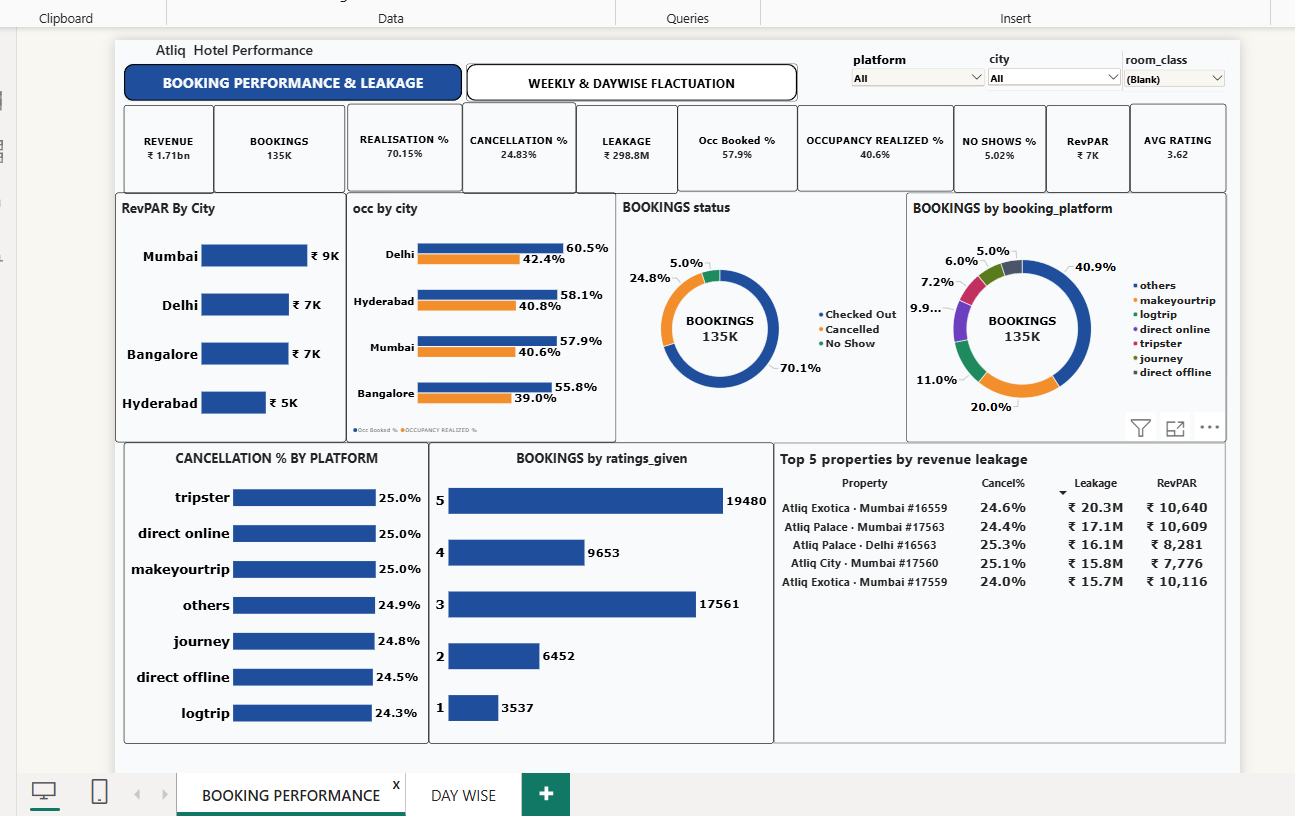

The page's visual inventory and layout, read from the dashboard file:
{"tool":"powerbi","page":{"name":"BOOKING PERFORMANCE","canvas":[3000,2000],"ordinal":0},"visuals":[{"type":"clusteredBarChart","title":"RevPAR By City","fields":{"Category":["dim_hotels.city"],"Y":["fact_bookings.RevPAR"]},"box":[0,406.7,616.7,666.7],"z":0},{"type":"clusteredBarChart","title":"occ by city","fields":{"Category":["dim_hotels.city"],"Y":["fact_bookings.Occ Booked %","fact_bookings.OCCUPANCY REALIZED %"]},"box":[616.7,406.7,720,666.7],"z":1000},{"type":"donutChart","title":"BOOKINGS status","fields":{"Category":["fact_bookings.booking_status"],"Y":["fact_bookings.BOOKINGS"]},"box":[1336.7,406.7,773.3,666.7],"z":2000},{"type":"donutChart","fields":{"Category":["fact_bookings.booking_platform"],"Y":["fact_bookings.BOOKINGS"]},"box":[2110,406.7,853.3,666.7],"z":3000},{"type":"pivotTable","title":"Top 5 properties by revenue leakage","fields":{"Rows":["dim_hotels.Property by city"],"Values":["fact_bookings.CANCELLATION %","fact_bookings.LEAKAGE","fact_bookings.RevPAR"]},"box":[1756.7,1073.3,1206.7,803.3],"z":4000},{"type":"cardVisual","fields":{"Data":["fact_bookings.REVENUE"]},"box":[23.3,173.3,240,236.7],"z":5000},{"type":"cardVisual","fields":{"Data":["fact_bookings.BOOKINGS"]},"box":[263.3,173.3,350,233.3],"z":6000},{"type":"cardVisual","fields":{"Data":["fact_bookings.REALISATION %"]},"box":[620,170,306.7,233.3],"z":7000},{"type":"cardVisual","fields":{"Data":["fact_bookings.NO SHOWS %"]},"box":[2236.7,173.3,246.7,233.3],"z":8000},{"type":"cardVisual","fields":{"Data":["fact_bookings.CANCELLATION %"]},"box":[926.7,166.7,303.3,243.3],"z":9000},{"type":"cardVisual","fields":{"Data":["fact_bookings.LEAKAGE"]},"box":[1230,173.3,270,236.7],"z":10000},{"type":"cardVisual","fields":{"Data":["fact_bookings.Occ Booked %"]},"box":[1500,173.3,320,230],"z":11000},{"type":"cardVisual","fields":{"Data":["fact_bookings.OCCUPANCY REALIZED %"]},"box":[1820,173.3,416.7,230],"z":12000},{"type":"cardVisual","fields":{"Data":["fact_bookings.RevPAR"]},"box":[2483.3,173.3,223.3,233.3],"z":13000},{"type":"cardVisual","fields":{"Data":["fact_bookings.AVG RATING"]},"box":[2706.7,170,256.7,236.7],"z":14000},{"type":"clusteredBarChart","title":"CANCELLATION % BY PLATFORM","fields":{"Category":["fact_bookings.booking_platform"],"Y":["fact_bookings.CANCELLATION %"]},"box":[23.3,1073.3,813.3,803.3],"z":15000},{"type":"shape","box":[23.3,63.3,903.3,100],"z":16000},{"type":"textbox","box":[23.3,0,590,63.3],"z":17000},{"type":"barChart","fields":{"Category":["fact_bookings.ratings_given"],"Y":["fact_bookings.BOOKINGS"]},"box":[836.7,1073.3,920,803.3],"z":18000},{"type":"shape","box":[936.7,63.3,883.3,100],"z":19000},{"type":"slicer","fields":{"Values":["dim_hotels.city"]},"box":[2323.3,26.7,363.3,106.7],"z":20000},{"type":"slicer","fields":{"Values":["dim_rooms.room_class"]},"box":[2686.7,30,277.5,105],"z":21000},{"type":"slicer","fields":{"Values":["fact_bookings.booking_platform"]},"box":[1960,33.3,363.3,106.7],"z":22000}]}

Visuals, with their boxes on the page's 3000x2000 design canvas (x1, y1, x2, y2). These are canvas units, not pixel positions in the 1295x816 screenshot, which may show the page scaled, cropped or inside an application window:
"RevPAR By City" clusteredBarChart: [left=0, top=407, right=617, bottom=1073]
"occ by city" clusteredBarChart: [left=617, top=407, right=1337, bottom=1073]
"BOOKINGS status" donutChart: [left=1337, top=407, right=2110, bottom=1073]
donutChart - fact_bookings.booking_platform x fact_bookings.BOOKINGS: [left=2110, top=407, right=2963, bottom=1073]
"Top 5 properties by revenue leakage" pivotTable: [left=1757, top=1073, right=2963, bottom=1877]
cardVisual - fact_bookings.REVENUE: [left=23, top=173, right=263, bottom=410]
cardVisual - fact_bookings.BOOKINGS: [left=263, top=173, right=613, bottom=407]
cardVisual - fact_bookings.REALISATION %: [left=620, top=170, right=927, bottom=403]
cardVisual - fact_bookings.NO SHOWS %: [left=2237, top=173, right=2483, bottom=407]
cardVisual - fact_bookings.CANCELLATION %: [left=927, top=167, right=1230, bottom=410]
cardVisual - fact_bookings.LEAKAGE: [left=1230, top=173, right=1500, bottom=410]
cardVisual - fact_bookings.Occ Booked %: [left=1500, top=173, right=1820, bottom=403]
cardVisual - fact_bookings.OCCUPANCY REALIZED %: [left=1820, top=173, right=2237, bottom=403]
cardVisual - fact_bookings.RevPAR: [left=2483, top=173, right=2707, bottom=407]
cardVisual - fact_bookings.AVG RATING: [left=2707, top=170, right=2963, bottom=407]
"CANCELLATION % BY PLATFORM" clusteredBarChart: [left=23, top=1073, right=837, bottom=1877]
shape: [left=23, top=63, right=927, bottom=163]
textbox: [left=23, top=0, right=613, bottom=63]
barChart - fact_bookings.ratings_given x fact_bookings.BOOKINGS: [left=837, top=1073, right=1757, bottom=1877]
shape: [left=937, top=63, right=1820, bottom=163]
slicer - dim_hotels.city: [left=2323, top=27, right=2687, bottom=133]
slicer - dim_rooms.room_class: [left=2687, top=30, right=2964, bottom=135]
slicer - fact_bookings.booking_platform: [left=1960, top=33, right=2323, bottom=140]
